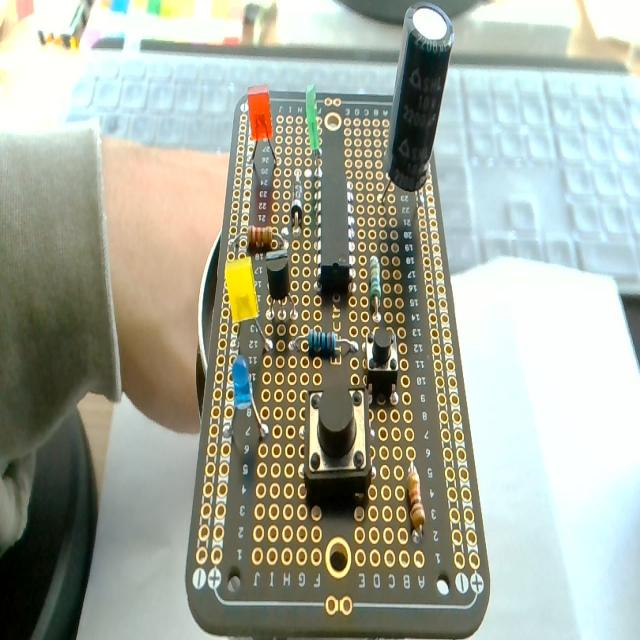Electrolytic capacitor: (378, 8, 451, 208)
IC: (310, 166, 366, 294)
diode: (291, 182, 303, 228)
led: (225, 257, 268, 359), (230, 356, 270, 440), (246, 84, 276, 173), (305, 84, 320, 152)
resistor: (407, 465, 425, 532), (307, 328, 337, 358), (369, 256, 382, 322), (247, 224, 275, 250)
switch: (305, 385, 370, 502), (366, 325, 398, 400)
transistor: (264, 245, 294, 326)
